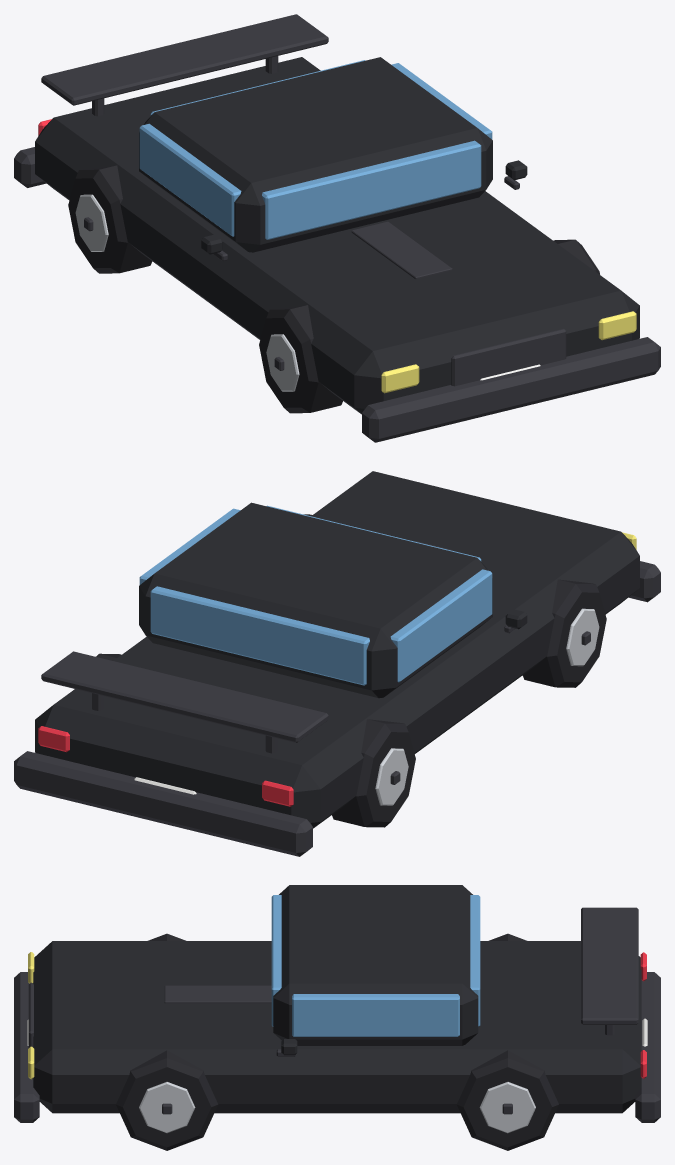
Rendered from BlackSportsCar.fbx.
The picture shows the model from 3 angles, top to bottom: view 1: azimuth 30°, elevation 25°; view 2: azimuth 150°, elevation 25°; view 3: azimuth 270°, elevation 25°; orthographic projection. The views are drawn at different scales.
Parts seen in each view (by area): view 1: BlackSportsCar, BlackSportsCar_WheelBR, BlackSportsCar_WheelFR; view 2: BlackSportsCar, BlackSportsCar_WheelBR, BlackSportsCar_WheelFR; view 3: BlackSportsCar, BlackSportsCar_WheelBL, BlackSportsCar_WheelFL.
Part boxes in pixels (x1,y1,x2,y2): BlackSportsCar: (14,14,660,442); BlackSportsCar_WheelBR: (68,165,152,273); BlackSportsCar_WheelFR: (259,305,342,413); BlackSportsCar: (14,471,660,856); BlackSportsCar_WheelBR: (332,719,415,827); BlackSportsCar_WheelFR: (522,579,606,687); BlackSportsCar: (14,885,660,1122); BlackSportsCar_WheelBL: (456,1050,558,1150); BlackSportsCar_WheelFL: (116,1050,218,1150).
Size of the model in its own units: 5.15 by 2.66 by 10.1.
1 material, 1 textured.
